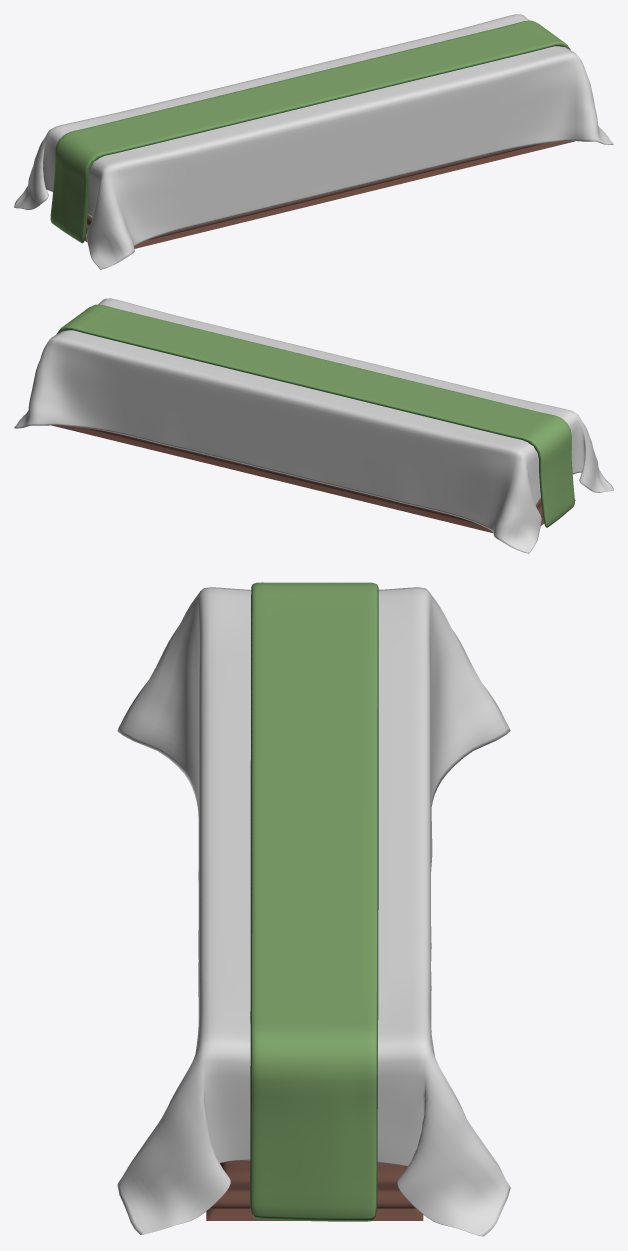
Rendered from DiningTableAsset.fbx.
3 views of the same model, one above another, from view 1: azimuth 30°, elevation 25°; view 2: azimuth 150°, elevation 25°; view 3: azimuth 270°, elevation 25° (orthographic). The views are drawn at different scales.
Parts seen in each view (by area): view 1: Plane.012, Plane.013, Cube.115; view 2: Plane.012, Plane.013, Cube.115; view 3: Plane.012, Plane.013, Cube.115.
Part boxes in pixels (x1,y1,x2,y2): Plane.012: (14,14,613,269); Plane.013: (50,20,570,243); Cube.115: (85,141,575,248); Plane.012: (14,298,613,553); Plane.013: (56,304,574,527); Cube.115: (51,425,575,532); Plane.012: (117,587,510,1236); Plane.013: (250,582,378,1221); Cube.115: (206,1160,423,1220).
Size of the model in its own units: 548 by 181 by 93.21.
